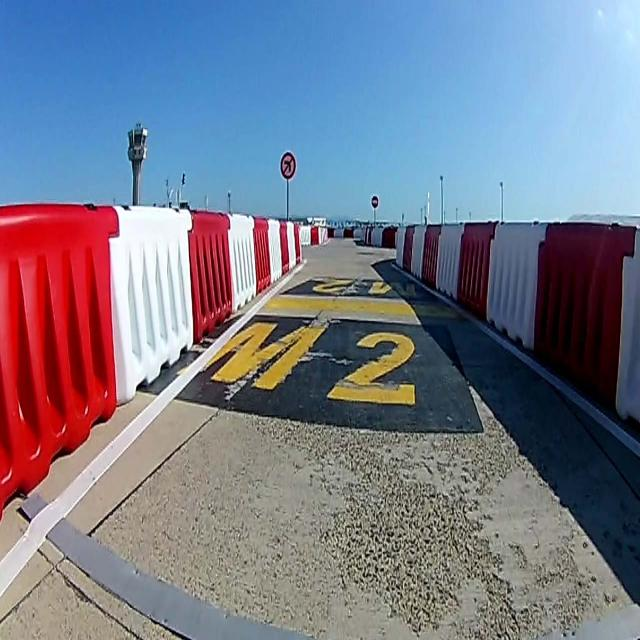soladonulmez: (280, 150, 298, 182)
